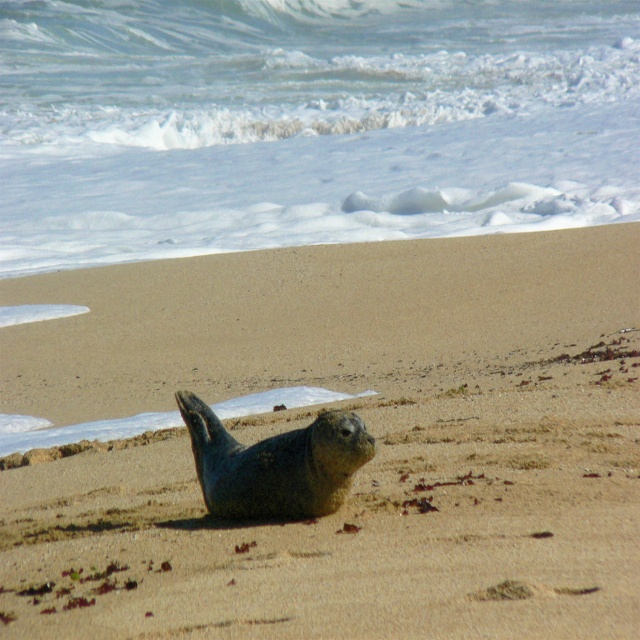Sea lion: (172, 391, 379, 515)
